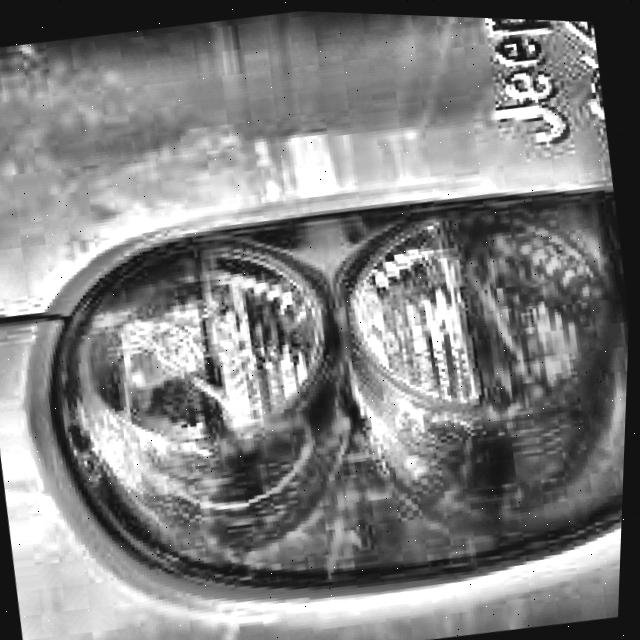tail_lamp: (49, 171, 634, 637)
